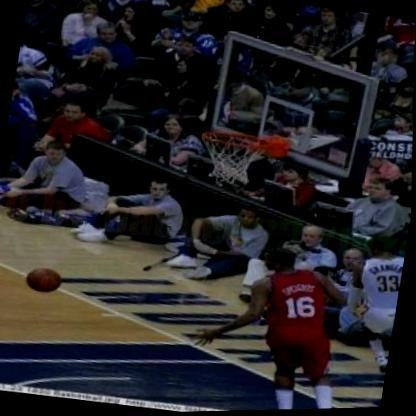basketball: (21, 258, 68, 302)
